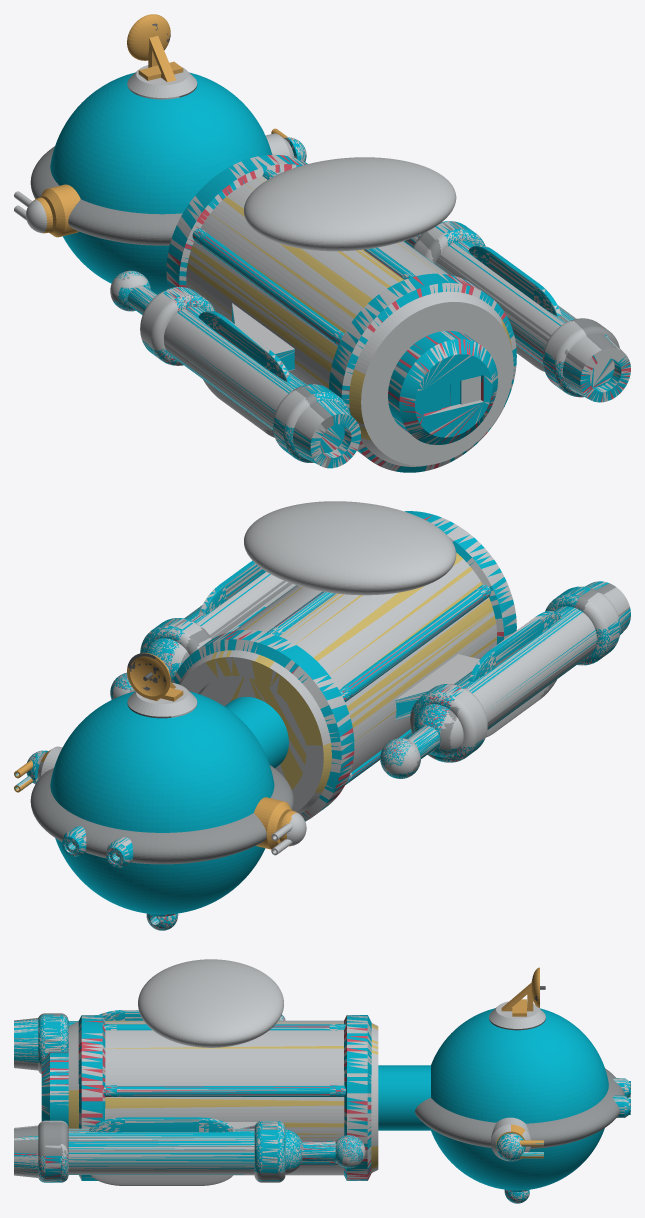
The model's file is Earth Command Ship v2.glb.
3 renders of one model, top to bottom at view 1: azimuth 30°, elevation 25°; view 2: azimuth 150°, elevation 25°; view 3: azimuth 270°, elevation 25°, orthographic. The views are drawn at different scales.
Parts seen in each view (by area): view 1: Mesh_Mesh_head_geo.001_lambert2SG.001; view 2: Mesh_Mesh_head_geo.001_lambert2SG.001; view 3: Mesh_Mesh_head_geo.001_lambert2SG.001.
Part boxes in pixels (<box>): Mesh_Mesh_head_geo.001_lambert2SG.001: <box>14,14,630,472</box>; Mesh_Mesh_head_geo.001_lambert2SG.001: <box>14,501,630,930</box>; Mesh_Mesh_head_geo.001_lambert2SG.001: <box>14,959,630,1203</box>.
Size of the model in its own units: 85.5 by 69.52 by 167.
